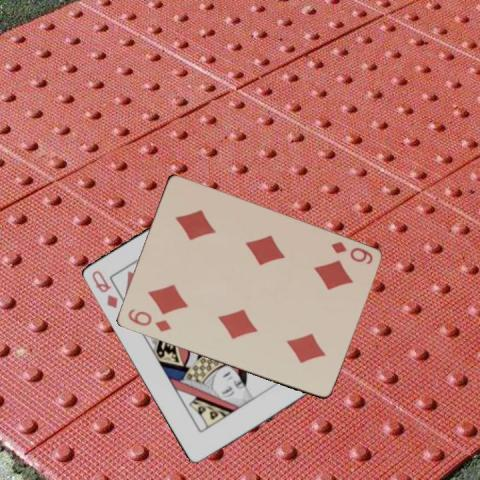6d: (124, 306, 173, 334), (328, 238, 374, 266)
Qd: (88, 267, 119, 310)
